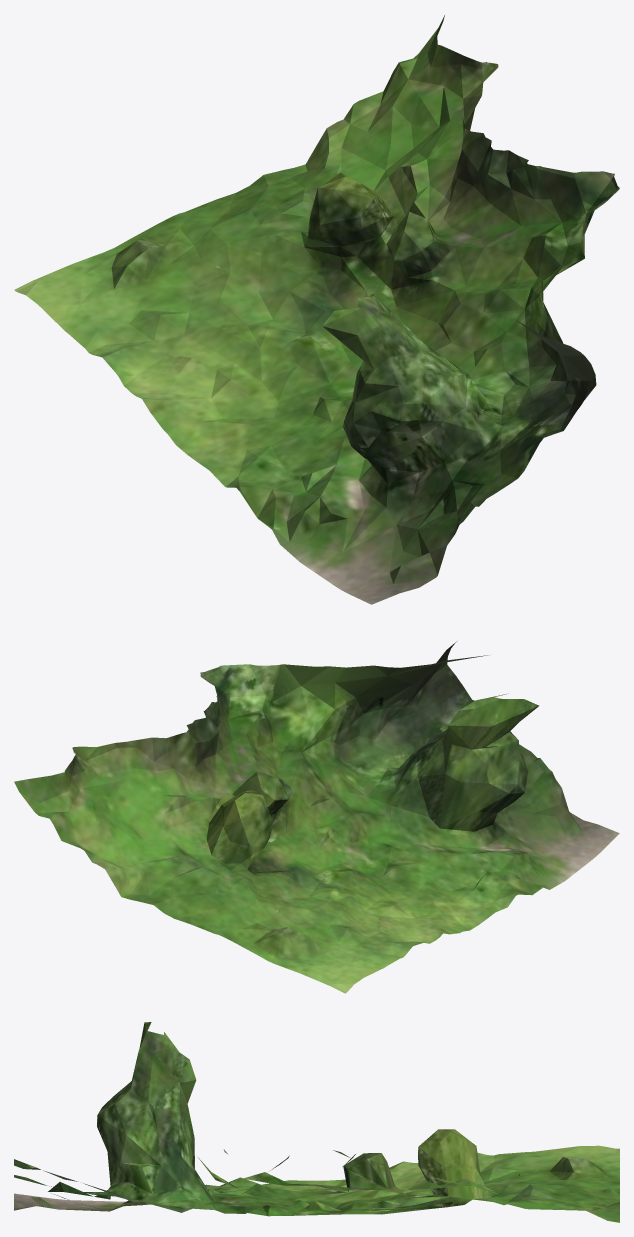
3 views of the same model, one above another, from view 1: azimuth 30°, elevation 25°; view 2: azimuth 150°, elevation 25°; view 3: azimuth 270°, elevation 25° (orthographic). The views are drawn at different scales.
Size of the model in its own units: 18.19 by 9.41 by 26.11.
Materials: 2 (2 with a texture image).
